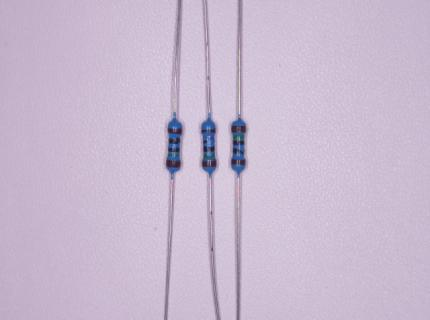Black band: (168, 138, 181, 144), (233, 148, 244, 155), (203, 146, 215, 152), (168, 147, 180, 153), (202, 139, 214, 144), (233, 140, 244, 145)
Brown band: (166, 160, 181, 168), (231, 126, 246, 133), (202, 161, 217, 167), (167, 128, 182, 134), (231, 159, 246, 165), (201, 129, 216, 133)
Green band: (203, 154, 215, 158), (233, 135, 244, 139), (168, 154, 179, 157)
